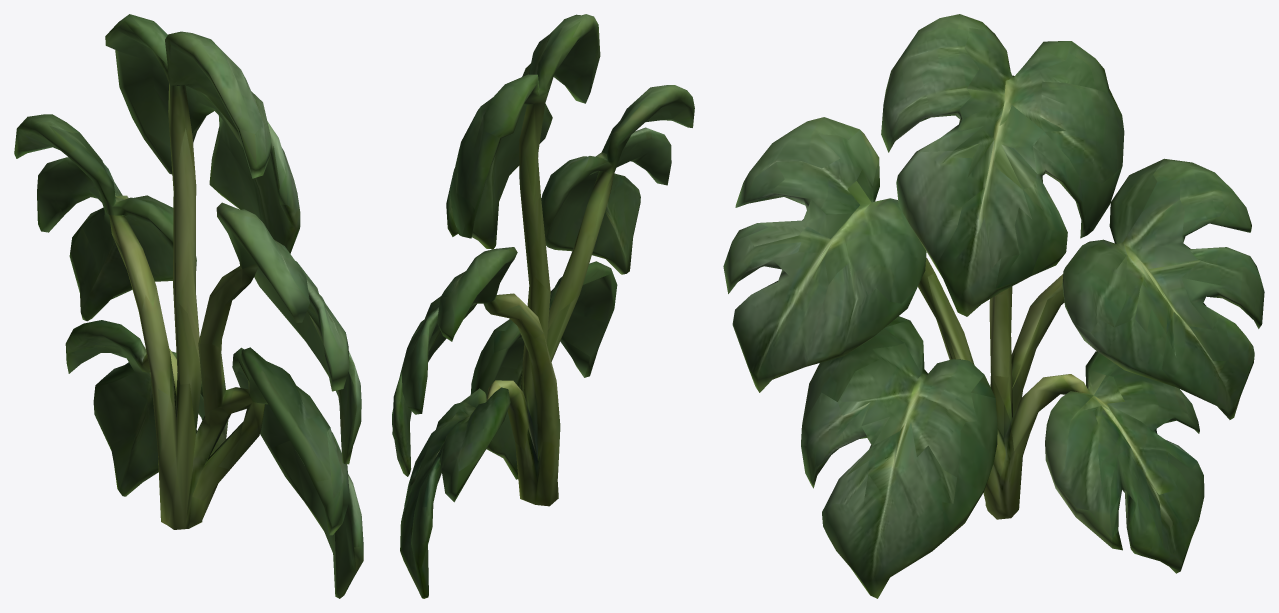
File: cafe-plant-monstera.glb
3 renders of one model, left to right at view 1: azimuth 30°, elevation 25°; view 2: azimuth 150°, elevation 25°; view 3: azimuth 270°, elevation 25°, orthographic. The views are drawn at different scales.
Parts seen in each view (by area): view 1: tripo_node_a234417d-d790-4ae2-a61c-a8f66edb34a5; view 2: tripo_node_a234417d-d790-4ae2-a61c-a8f66edb34a5; view 3: tripo_node_a234417d-d790-4ae2-a61c-a8f66edb34a5.
Boxes of the visible parts, x1,y1,x2,y2 form: tripo_node_a234417d-d790-4ae2-a61c-a8f66edb34a5: (14, 14, 363, 598); tripo_node_a234417d-d790-4ae2-a61c-a8f66edb34a5: (392, 14, 694, 598); tripo_node_a234417d-d790-4ae2-a61c-a8f66edb34a5: (723, 14, 1264, 598).
Bounding box in the file's own units: 0.15 × 0.5 × 0.46.
1 material, 1 textured.
